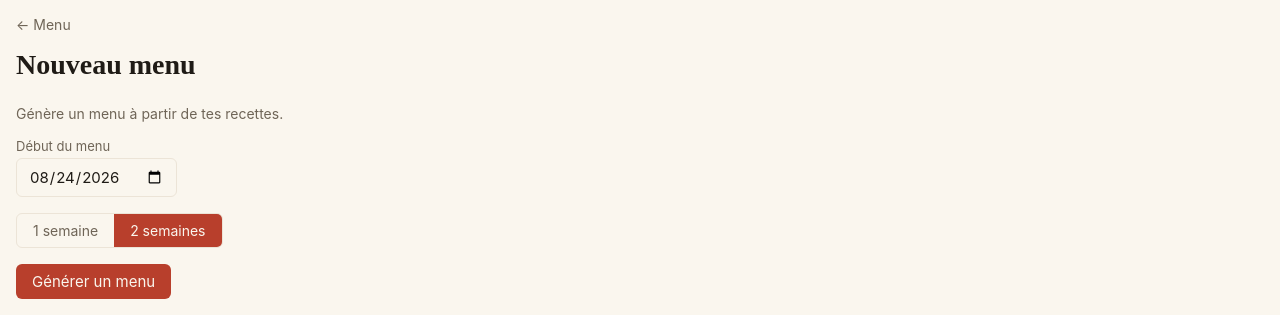
Test: MenuCreateContainer › affiche l’indicateur de chargement pendant la génération
Click the button "Générer un menu".
click(94, 282)  # box [16,264,171,299]
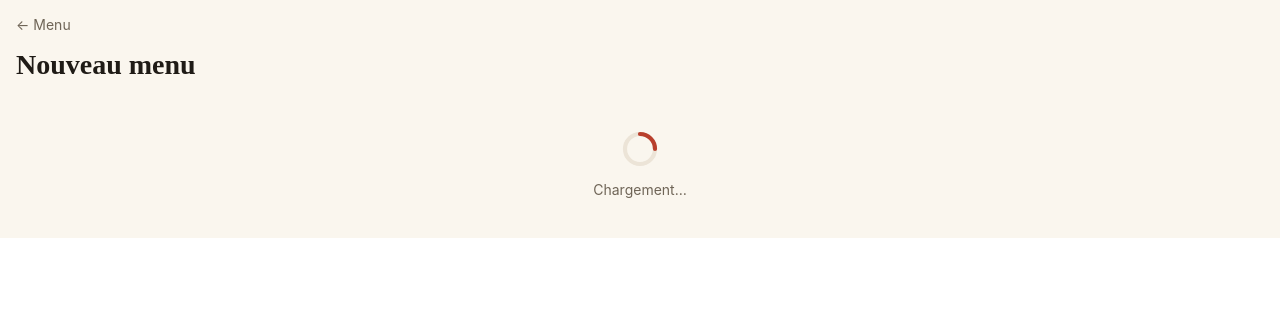
Expected: the message "Chargement…" is shown, [593,129,687,198]
